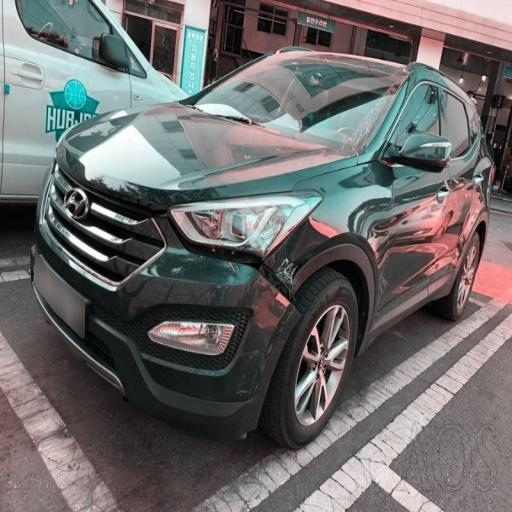broken: (177, 208, 327, 349)
dent: (157, 109, 294, 193)
scratch: (271, 232, 309, 296)
